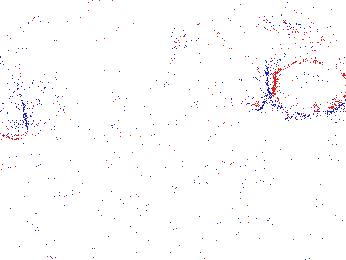moon jellyfish: (268, 35, 346, 114), (179, 44, 266, 112), (148, 51, 218, 113), (101, 94, 180, 138), (2, 55, 66, 98), (1, 62, 31, 140)
